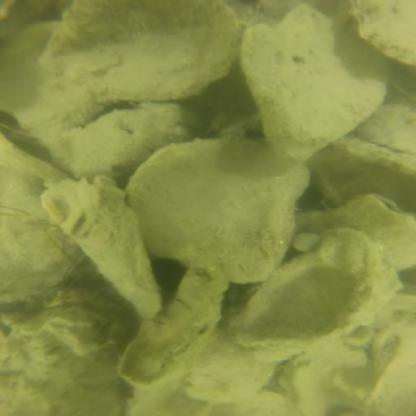Oyster-Closed: (242, 8, 394, 164), (113, 266, 227, 389), (301, 191, 415, 265)
Oyster-Open: (125, 138, 316, 282), (41, 177, 167, 322), (0, 134, 87, 303), (348, 2, 415, 65)
